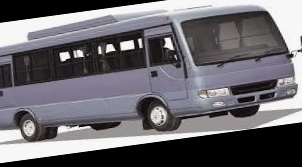bus: (0, 0, 302, 153)
